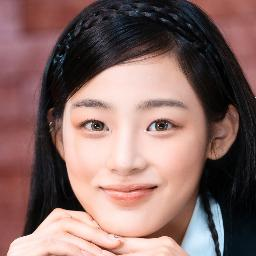face: (64, 63, 198, 237)
